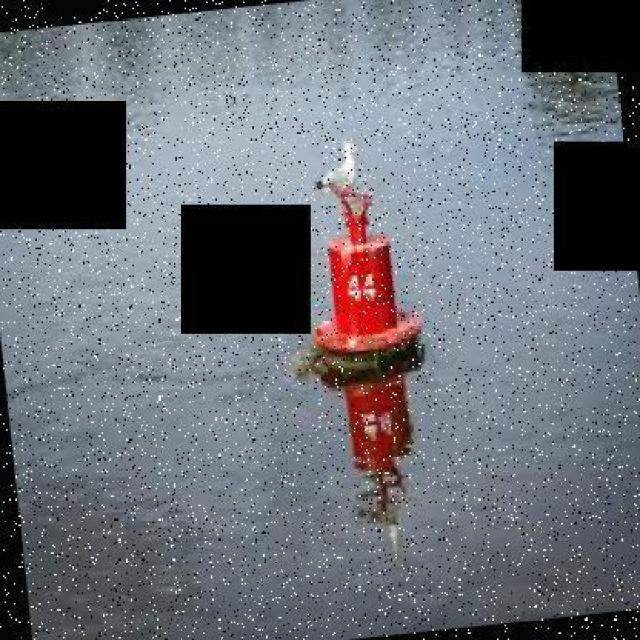Red Buoy: (315, 213, 424, 362)
